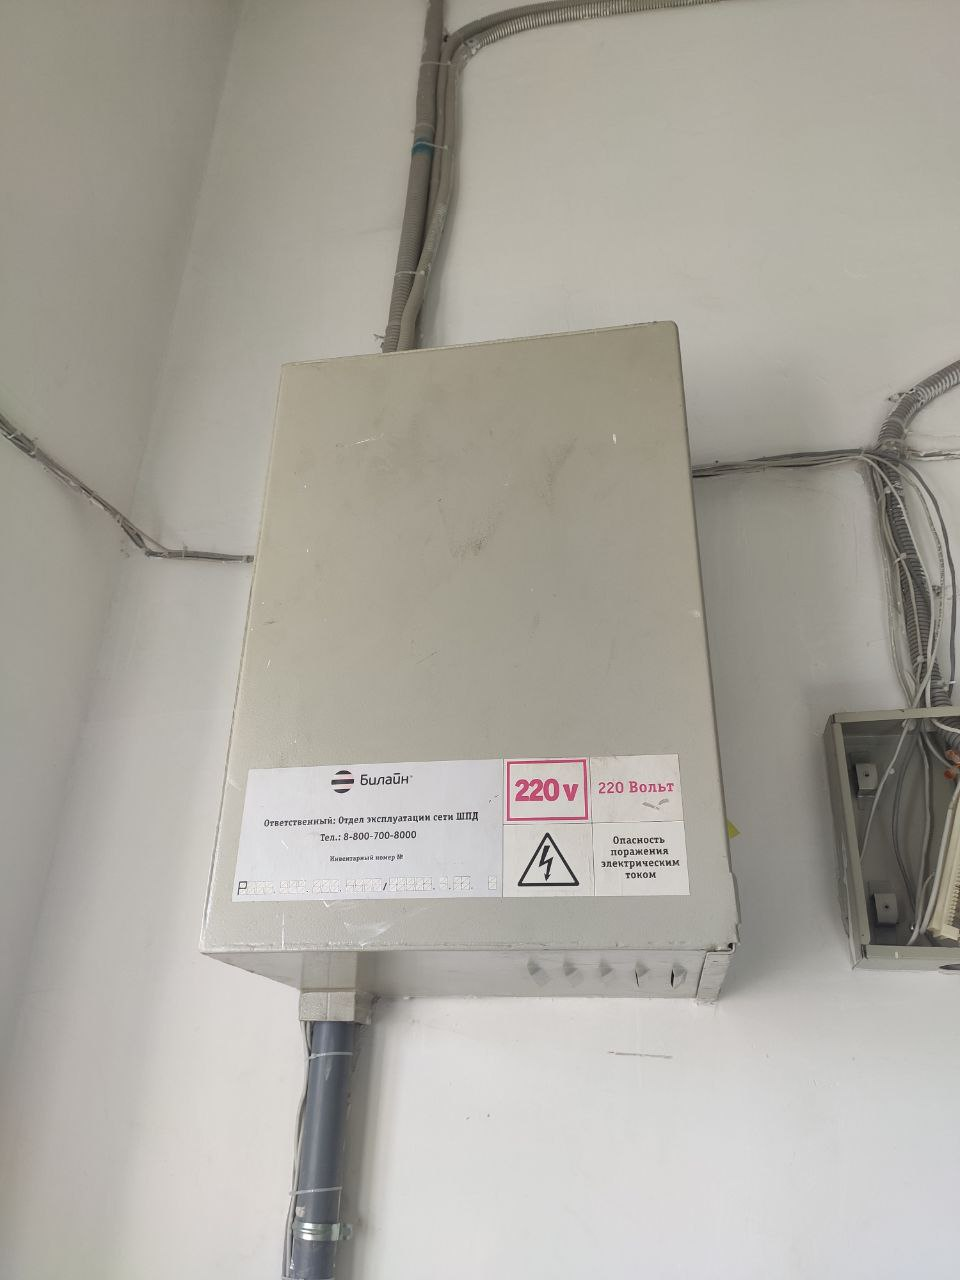sv-5: (187, 314, 748, 1018)
